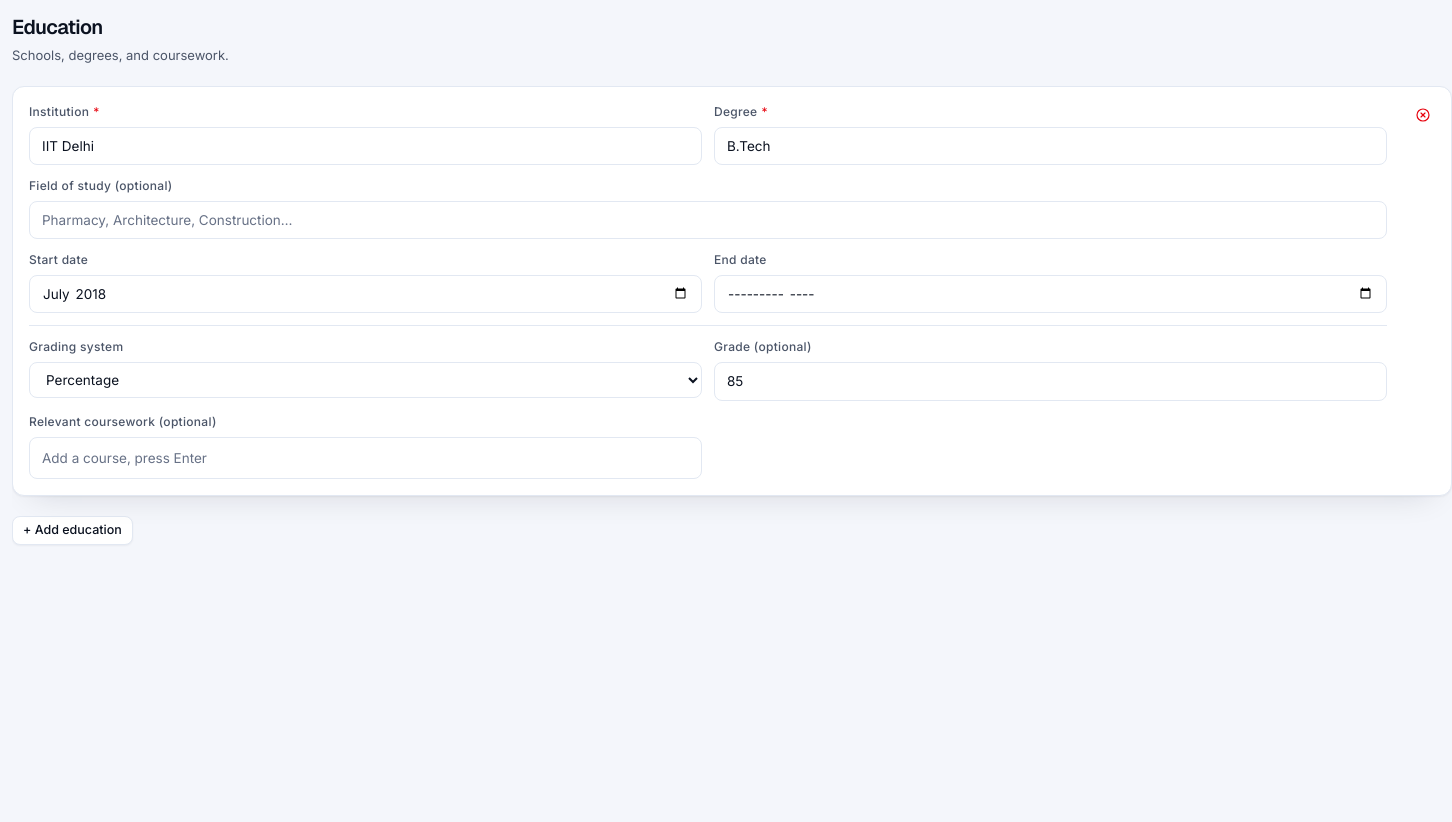
EducationForm › grading system › re-checks the grade at once when the scale changes
Step 1. Select "CGPA out of 10" in the dropdown labelled "Grading system" → x=366, y=380, box [29, 362, 702, 398]
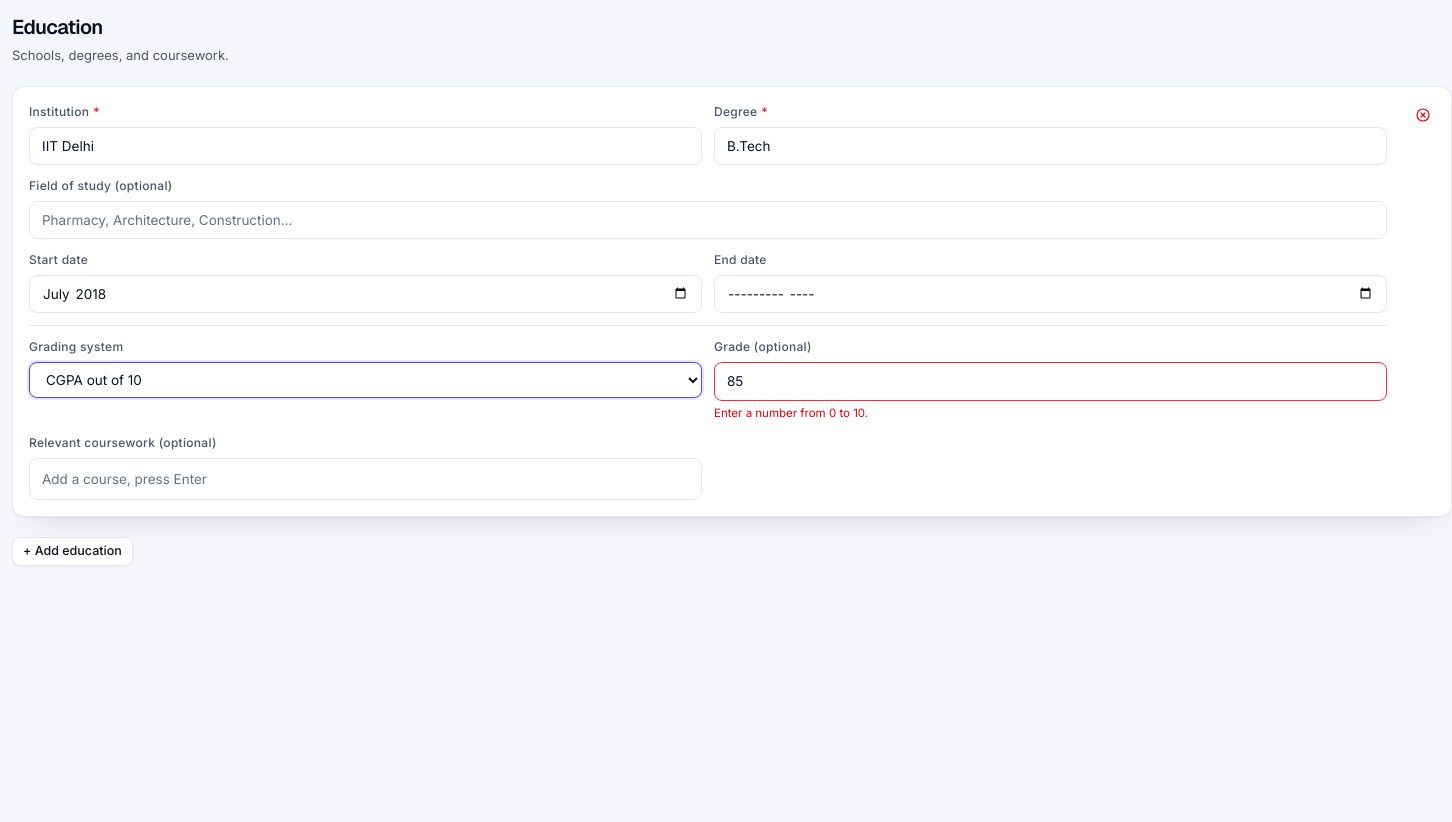
Expected: the text "Enter a number from 0 to 10." is shown, [714, 406, 868, 420]
